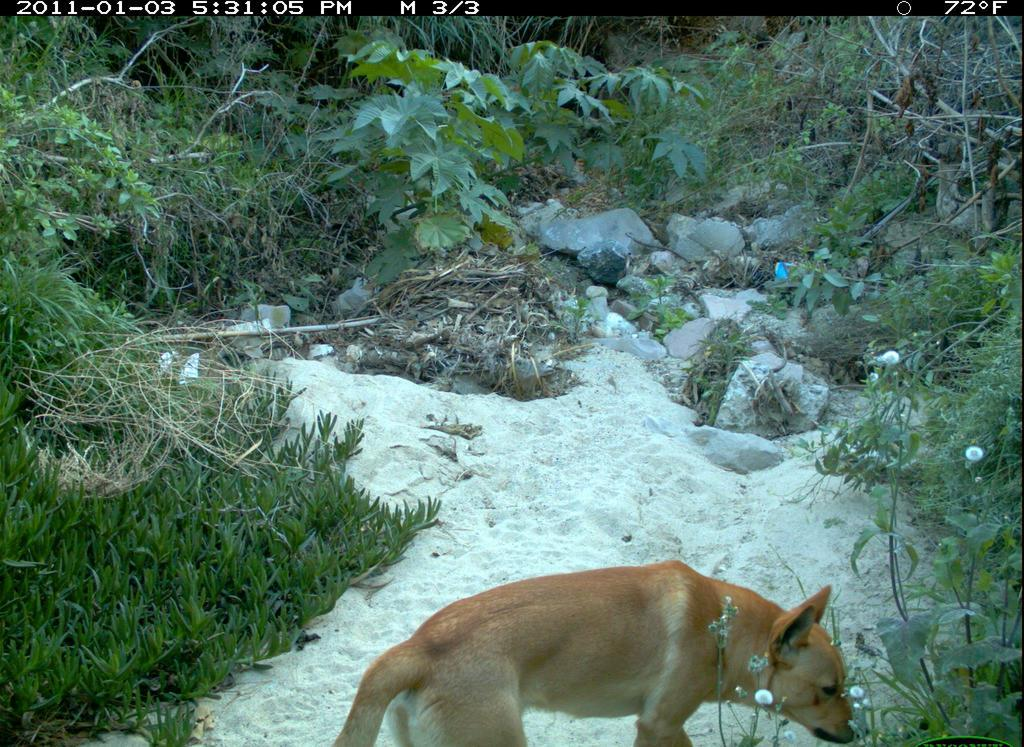dog: (322, 555, 880, 747)
